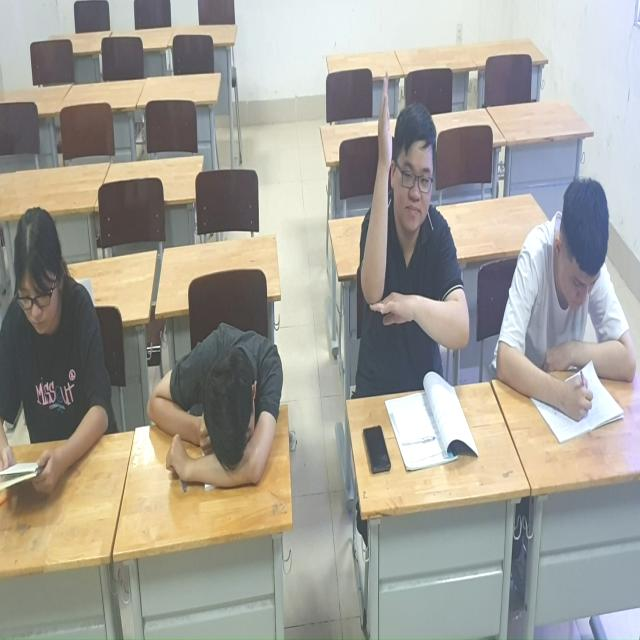raise_hand: (356, 70, 477, 398)
read: (486, 156, 635, 438), (1, 204, 128, 502)
sleep: (144, 285, 294, 515)
